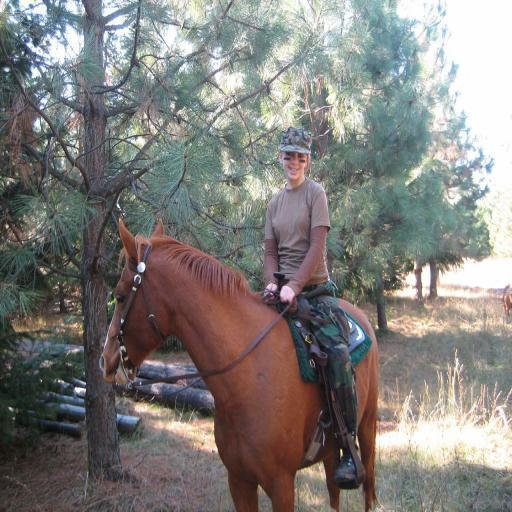horse: (99, 215, 381, 512)
